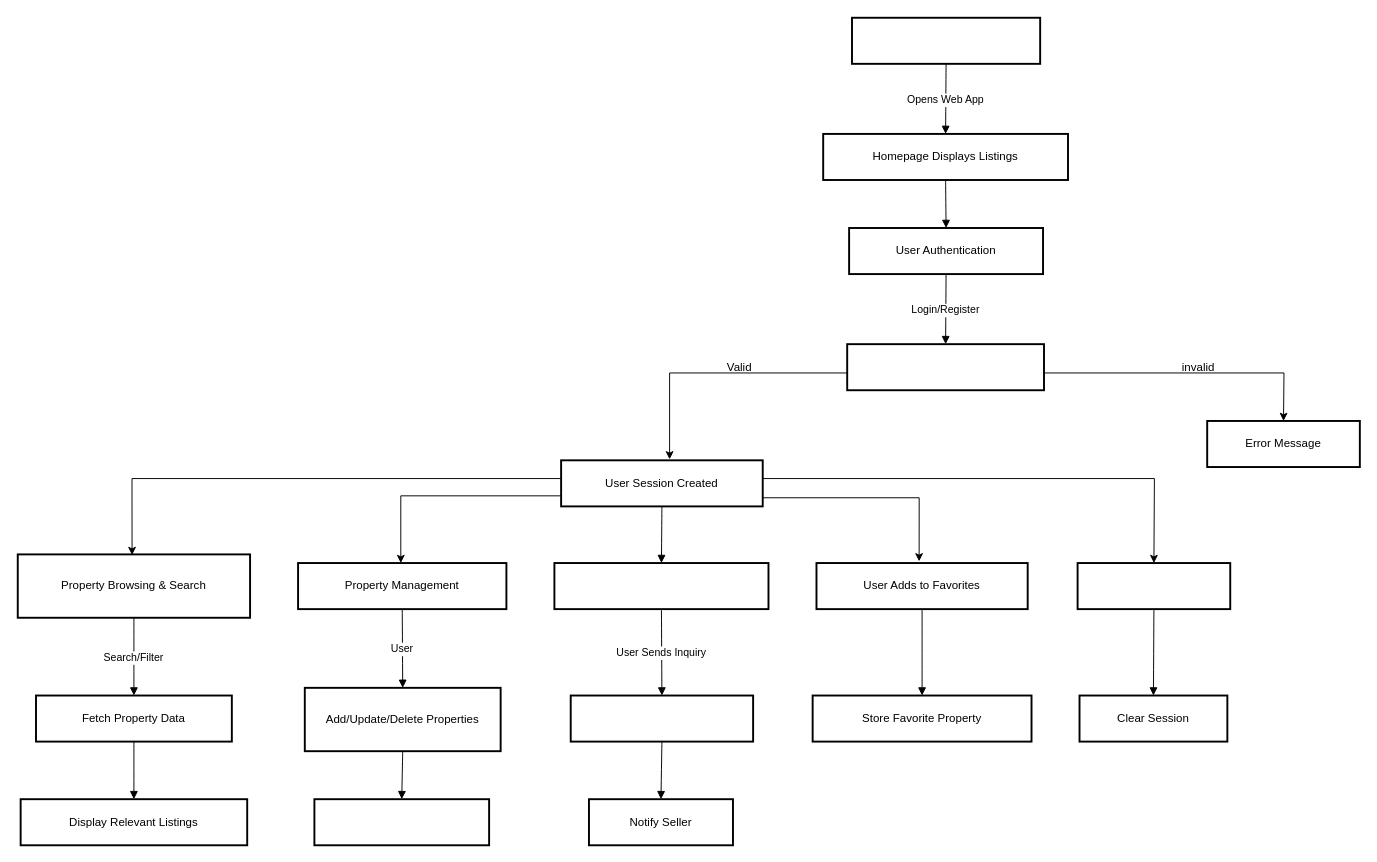
This 1377x862 diagram has some shape labels left out. Each missing label, with the centre of its shape:
Booking & Inquiry: the point at 661,586
Store Inquiry Data: the point at 661,718
Update Database: the point at 401,822
User Logs Out: the point at 1153,586
User Visits Website: the point at 946,40
Validate Credentials: the point at 945,367
